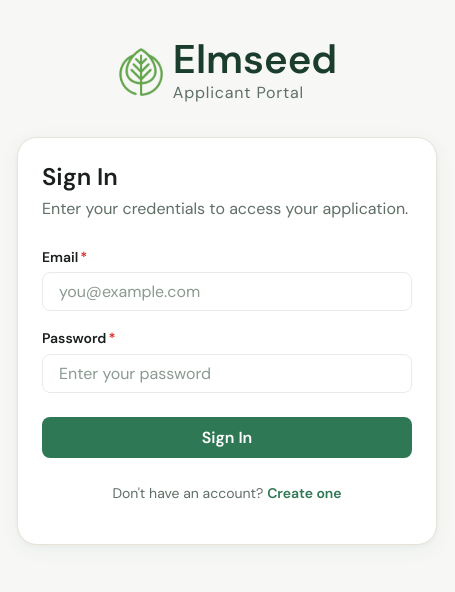
LoginPage › Form Submission › should display error message on failed login
Step 1. Type "wrong@example.com" into the field labelled "Email*" → (227, 292), box [42,272,412,311]
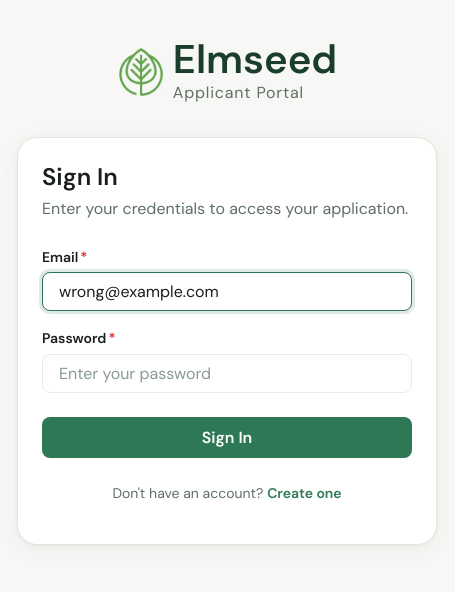
Step 2. Type "wrongpassword" into the password field labelled "Password*" → (227, 373), box [42,354,412,393]
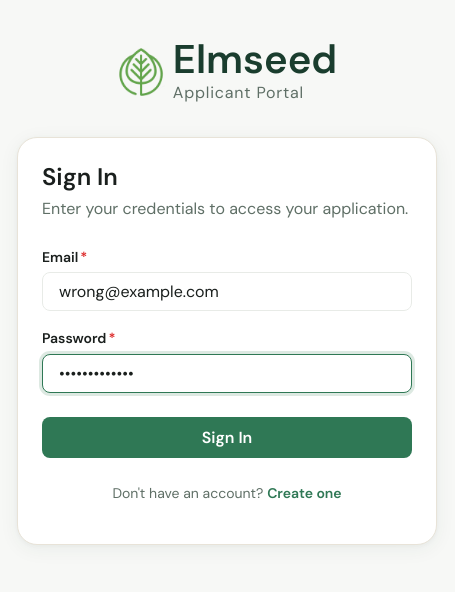
Step 3. Click the button "Sign In" → (227, 437), box [42,417,412,458]
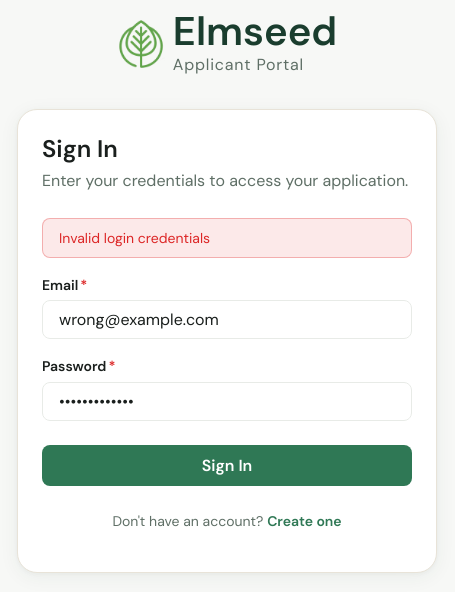
Now the message reads "Invalid login credentials", box [59,229,210,247]
